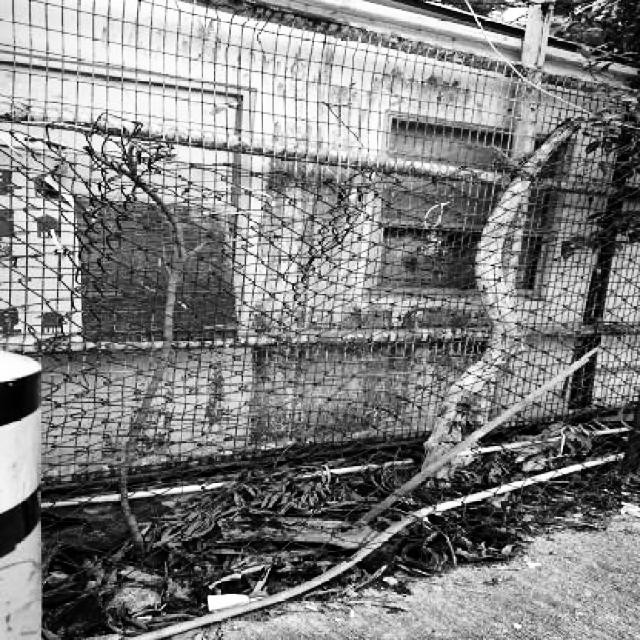anomaly-fence: (44, 22, 462, 533)
